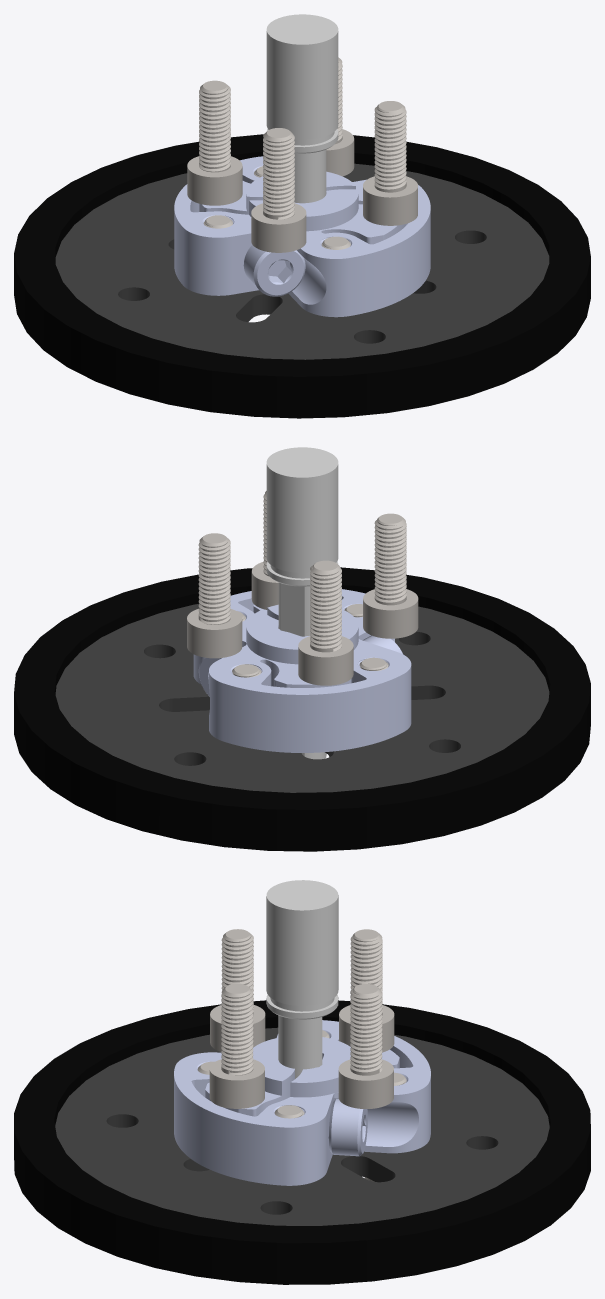
File: wheel_rotative.dae
3 renders of one model, top to bottom at view 1: azimuth 30°, elevation 25°; view 2: azimuth 150°, elevation 25°; view 3: azimuth 270°, elevation 25°, orthographic.
Visible parts, largest first — view 1: wheel.STEP (×2), attache.STEP (×2), M4x10 (×4), 5202-2402-0014.step; view 2: wheel.STEP (×2), attache.STEP, M4x10 (×4), 5202-2402-0014.step; view 3: wheel.STEP (×2), attache.STEP (×2), M4x10 (×4), 5202-2402-0014.step.
Boxes of the visible parts, <box> form: wheel.STEP (×2): <box>14,134,590,418</box>; attache.STEP (×2): <box>174,156,430,317</box>; M4x10 (×4): <box>187,57,417,252</box>; 5202-2402-0014.step: <box>266,14,338,203</box>; wheel.STEP (×2): <box>14,567,590,851</box>; attache.STEP: <box>193,589,411,752</box>; M4x10 (×4): <box>187,491,418,685</box>; 5202-2402-0014.step: <box>266,447,338,759</box>; wheel.STEP (×2): <box>14,1000,590,1284</box>; attache.STEP (×2): <box>174,1020,430,1185</box>; M4x10 (×4): <box>209,929,394,1108</box>; 5202-2402-0014.step: <box>266,880,338,1078</box>.
Size of the model in its own units: 0.0718 by 0.0718 by 0.0406.
